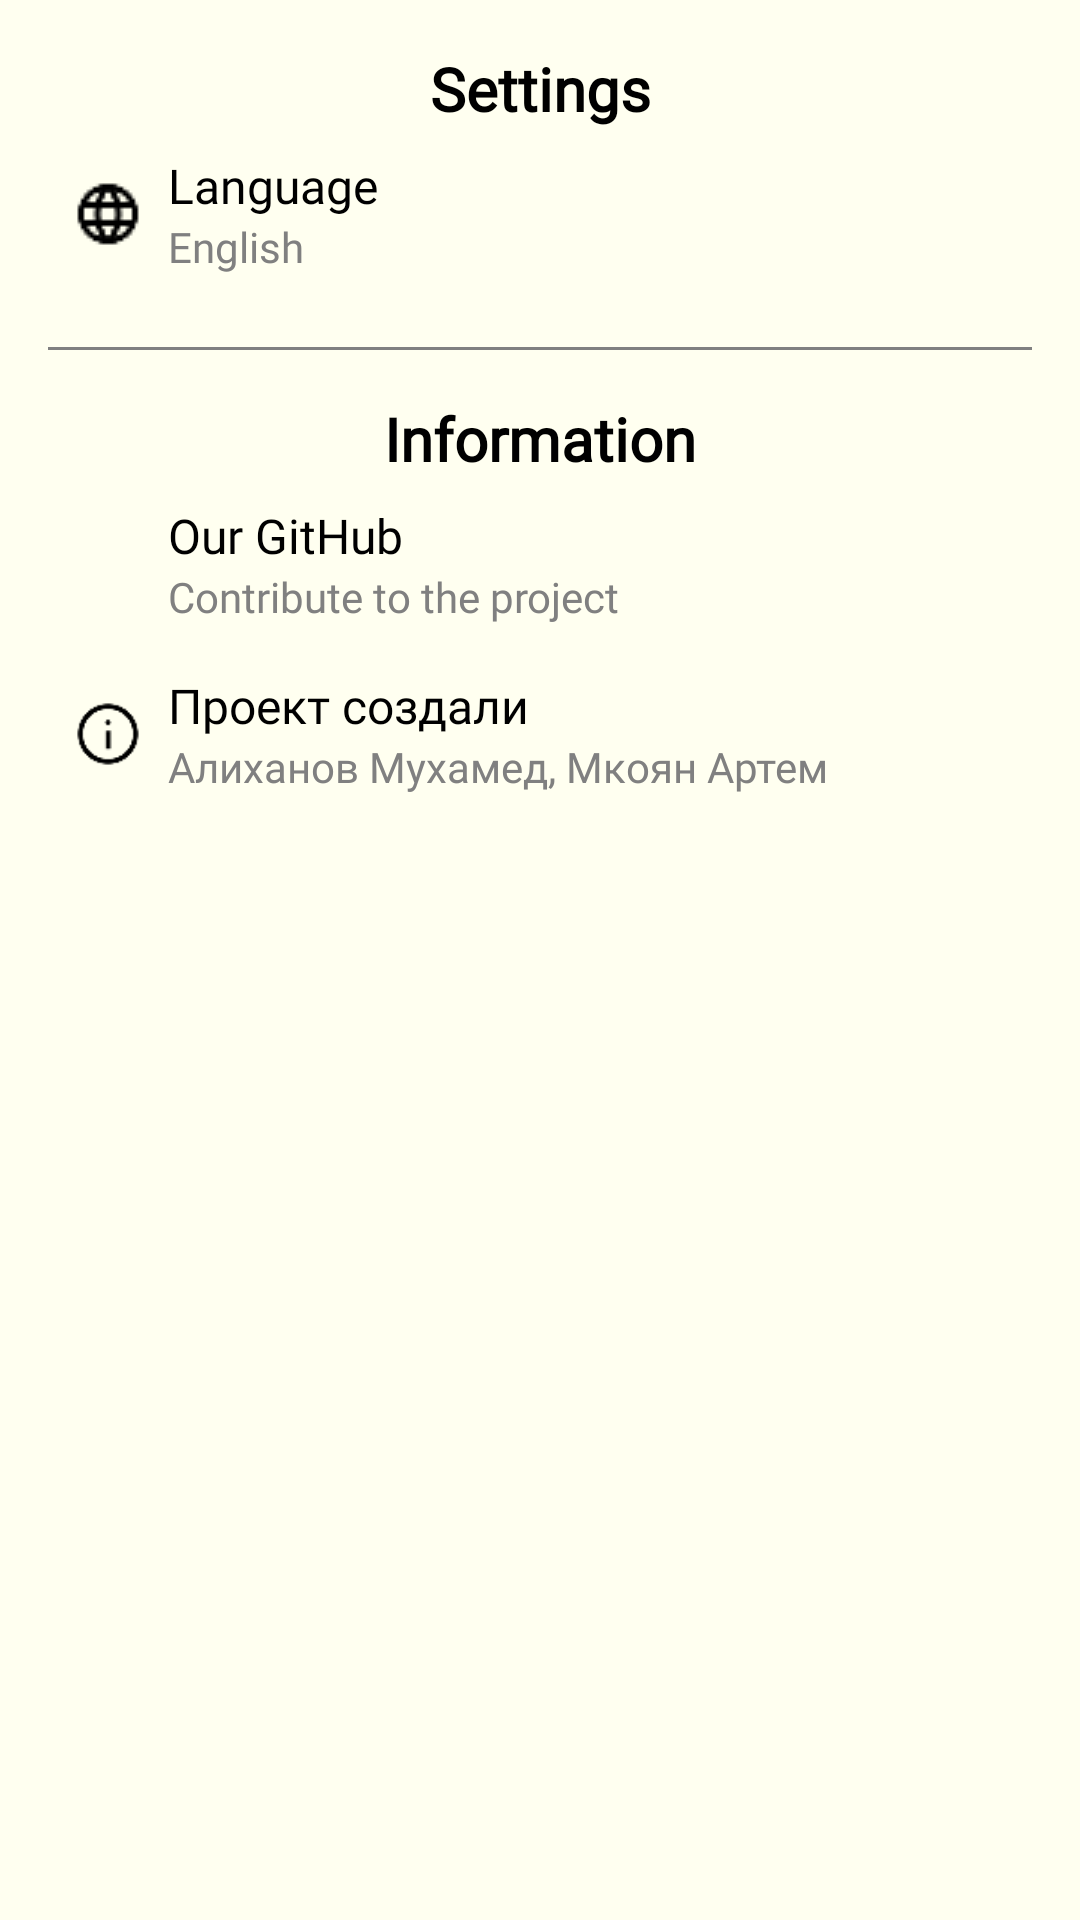

Named icons in this screenshot (1080px×1920px) and their bounding boxes, [x1, y1, x2, y2]:
Создатели проекта: [77, 703, 139, 765]
